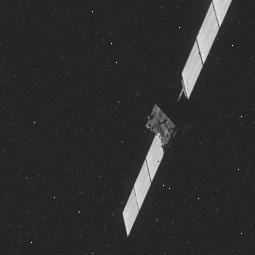smart_1: (127, 40, 210, 210)
